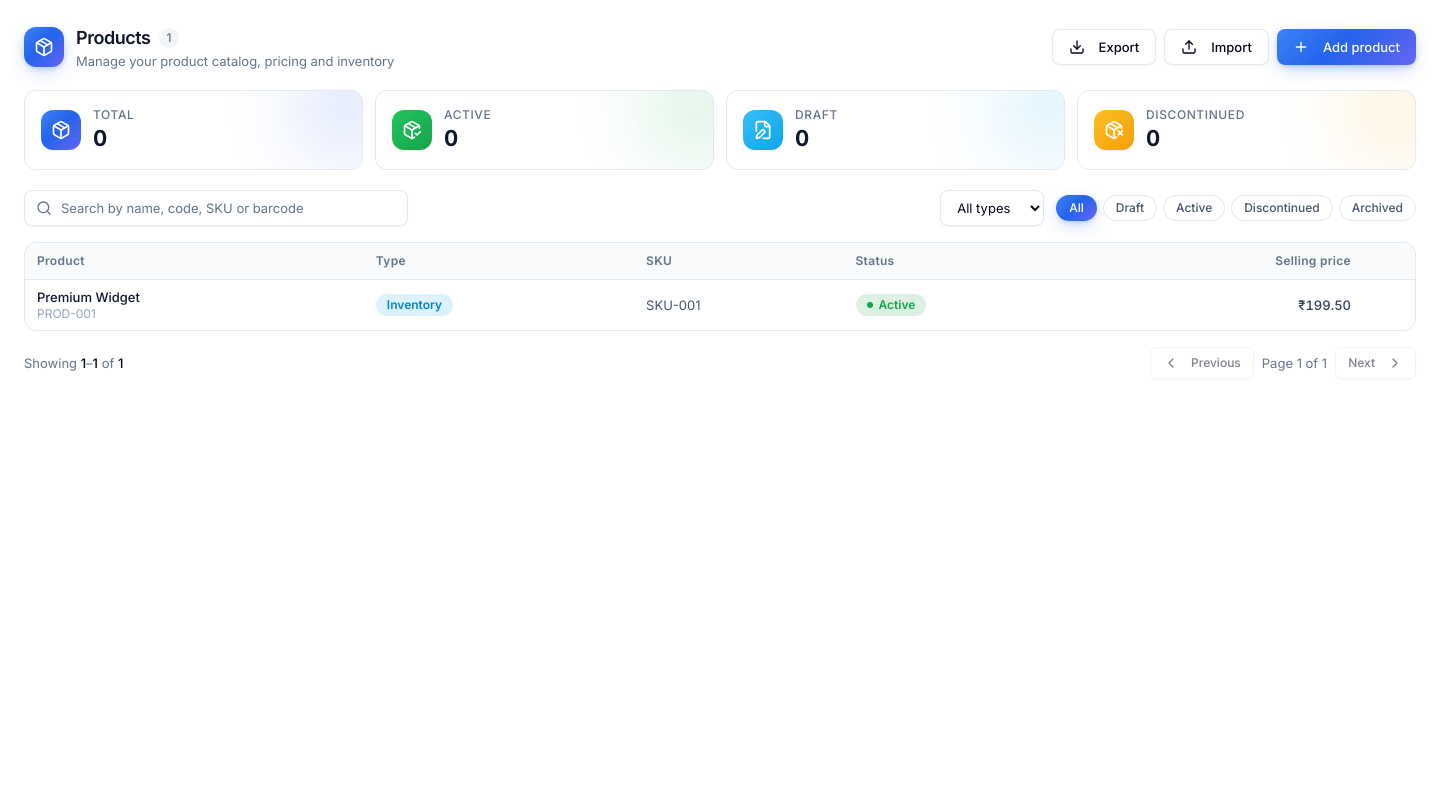
Test: ProductsView › opens the import dialog when import is clicked
Expected: the dialog "import products" is not shown
Click the button "Import". click: (1217, 47)
box: [1164,29,1269,65]
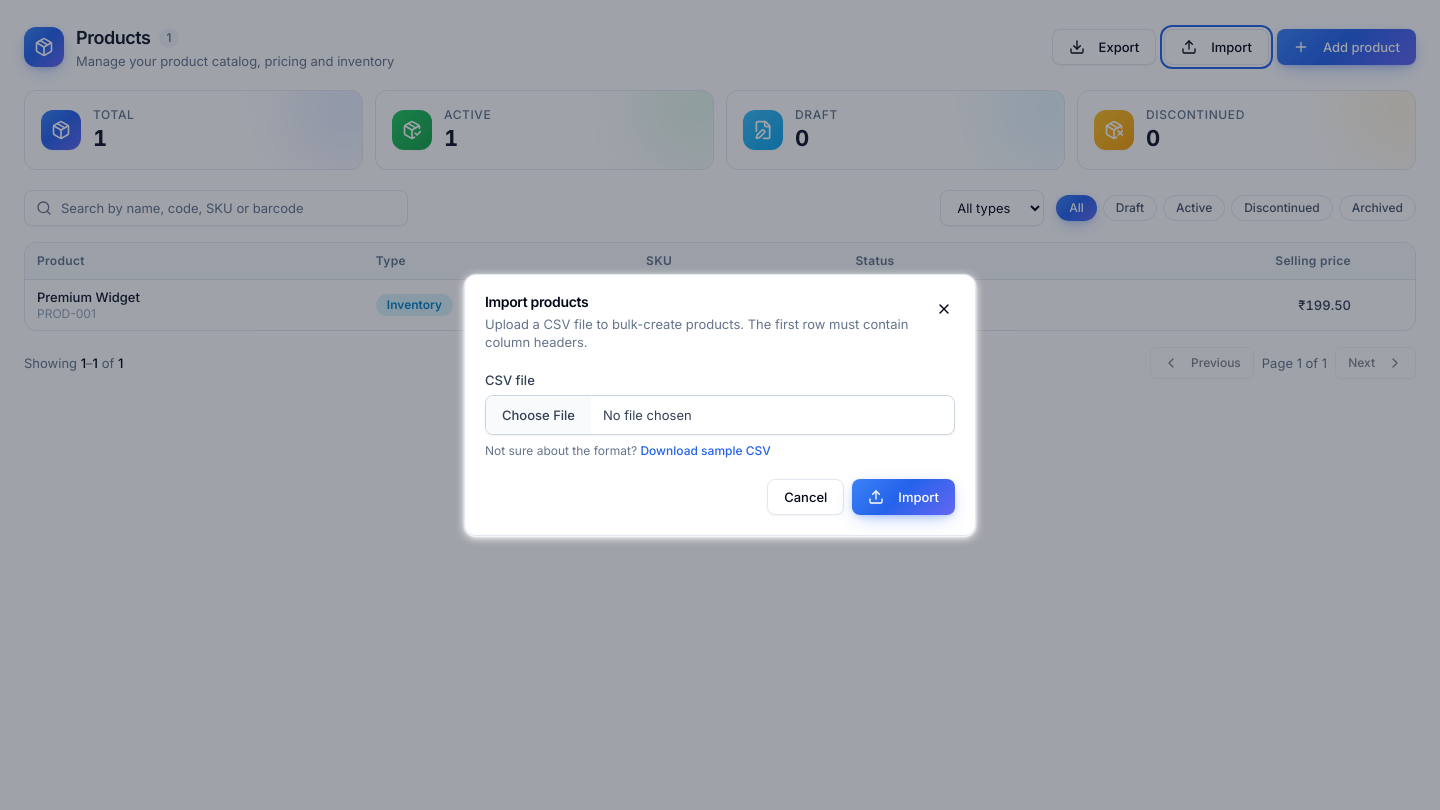
Expected: the dialog "Import products" is shown
